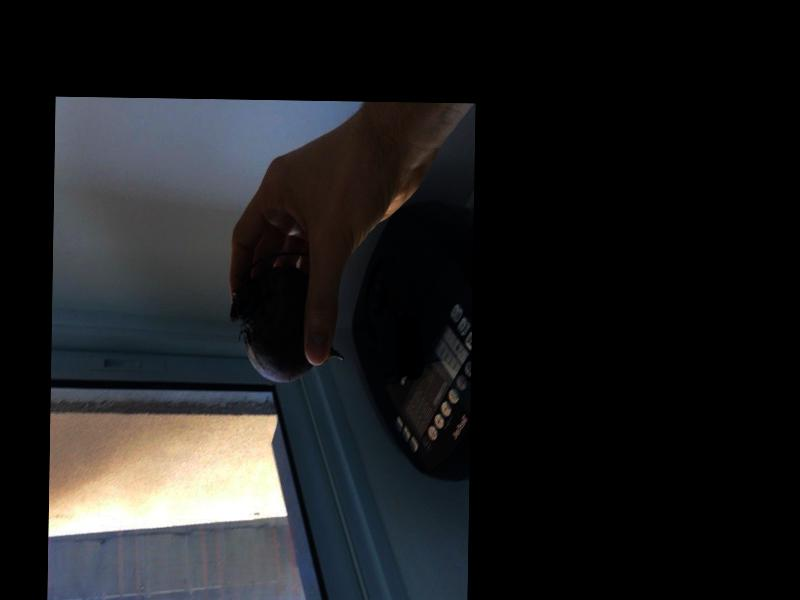Beet: (229, 252, 344, 383)
